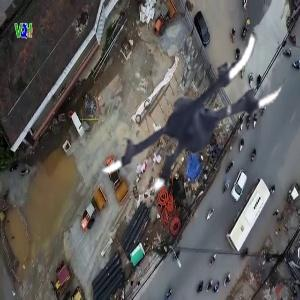drone: (84, 4, 287, 207)
